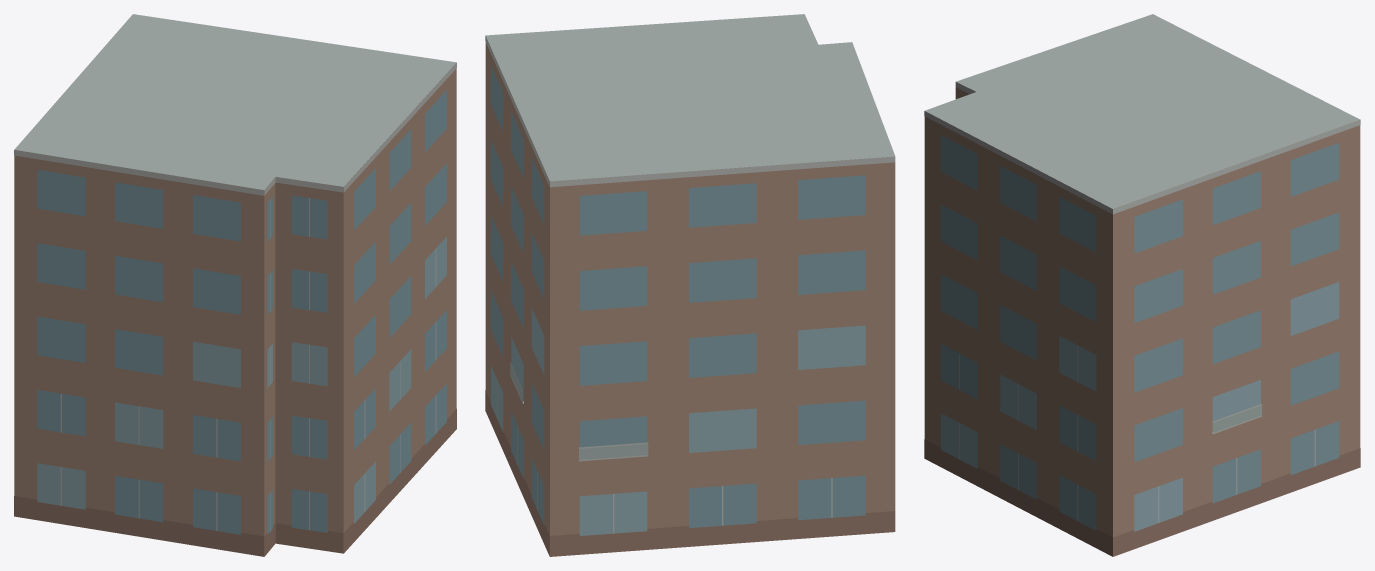
The model's file is survey-upis-32826307.glb.
3 views of the same model, side by side, from view 1: azimuth 30°, elevation 25°; view 2: azimuth 150°, elevation 25°; view 3: azimuth 270°, elevation 25° (orthographic). The views are drawn at different scales.
Visible parts, largest first — view 1: survey-upis-32826307.tmp; view 2: survey-upis-32826307.tmp; view 3: survey-upis-32826307.tmp.
Part boxes in pixels (left/top/right/bottom): survey-upis-32826307.tmp: left=14, top=14, right=456, bottom=556; survey-upis-32826307.tmp: left=485, top=14, right=895, bottom=556; survey-upis-32826307.tmp: left=924, top=14, right=1360, bottom=556.
Bounding box in the file's own units: 18.96 × 15.75 × 17.9.
